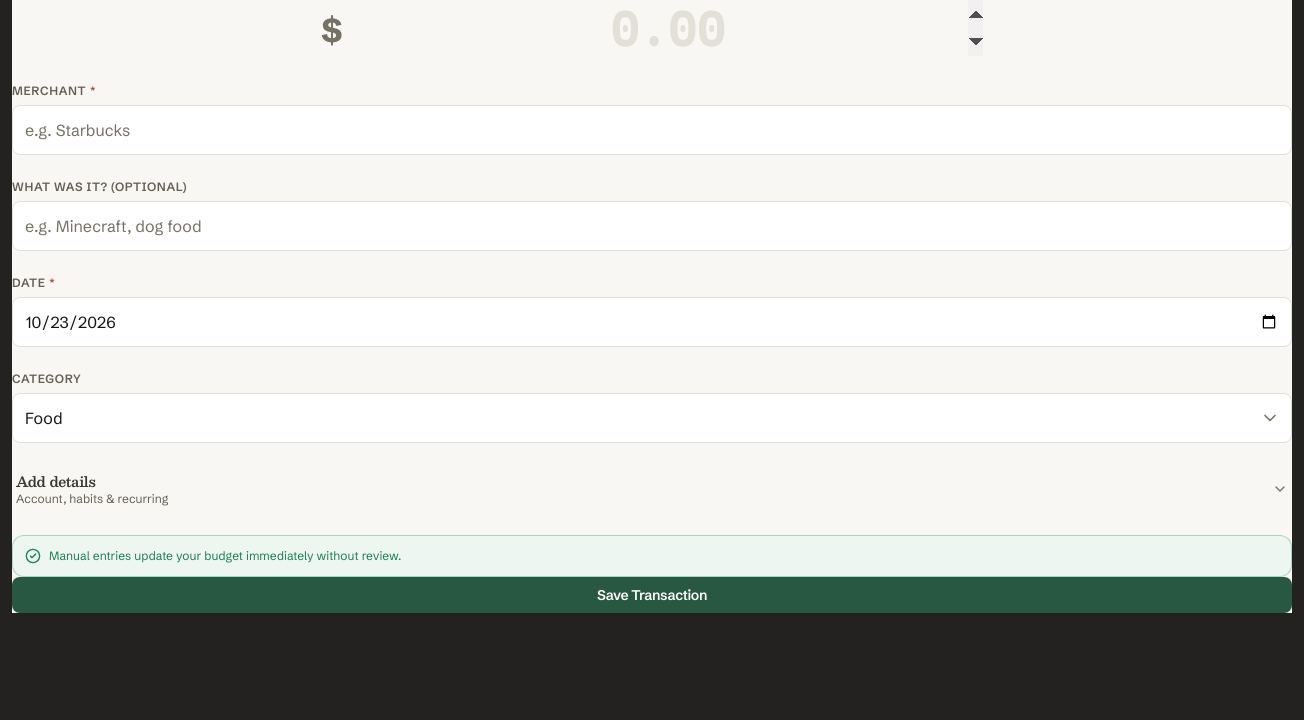
Test case: CaptureTransactionManual › collapses account/habit/recurring fields behind "Add details" by default
Expected: the number field with placeholder "0.00" is shown, [321, 0, 983, 59]
Expected: the field with placeholder "e.g. Starbucks" is shown, [12, 105, 1292, 155]
Step 1. Click the button "Add details Account, habits & recurring" → (56, 481), box [12, 467, 1292, 511]
(page scrolled)
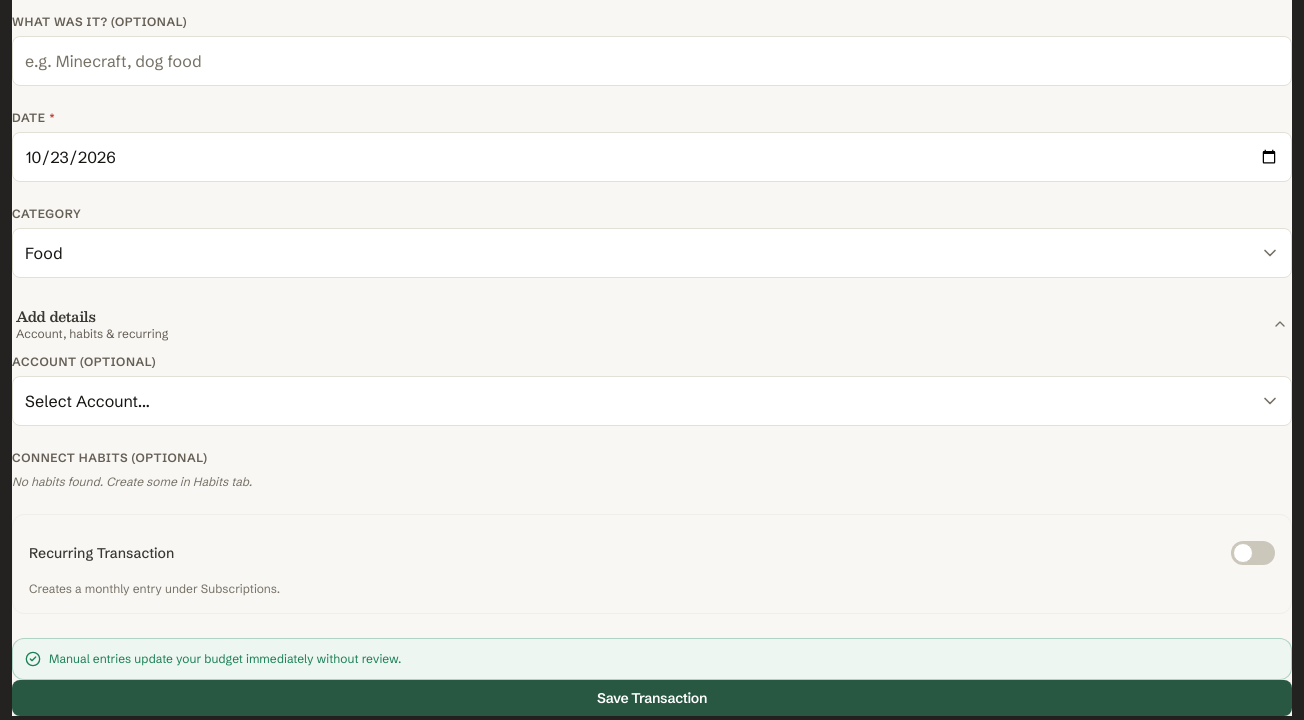
Result: the button "Add details Account, habits & recurring" is expanded at [12, 302, 1292, 346]
Result: the text "Account (Optional)" is shown at [12, 354, 156, 369]
Result: the text "Recurring Transaction" is shown at [29, 543, 174, 563]
